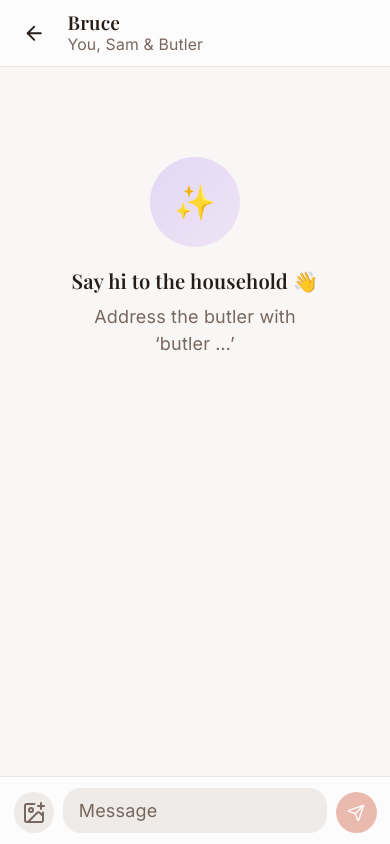
ChatPage › appends an optimistic message immediately on send
Expected: the text "Say hi to the household 👋" is shown, top-left (72, 265), bottom-right (318, 297)
Type "hello household" into the text box labelled "Message".
click(195, 810); type("hello household")  # box top-left (63, 788), bottom-right (327, 833)
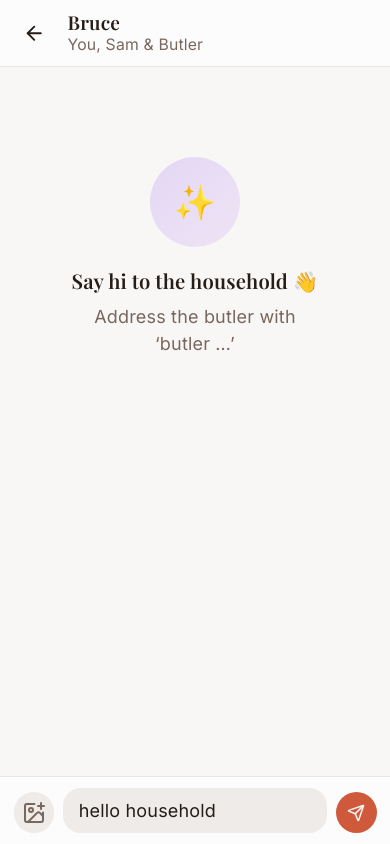
Press Enter in the text box named "Message", box top-left (63, 788), bottom-right (327, 833)
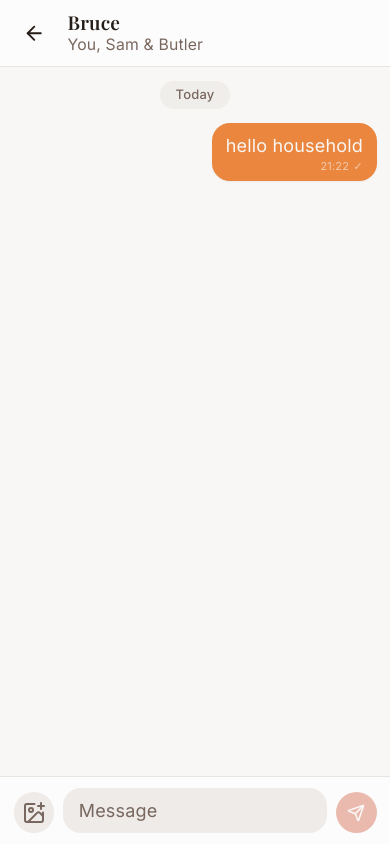
Expected: the text "Say hi to the household 👋" is gone
Expected: the text "hello household" is shown, top-left (226, 132), bottom-right (363, 159)
